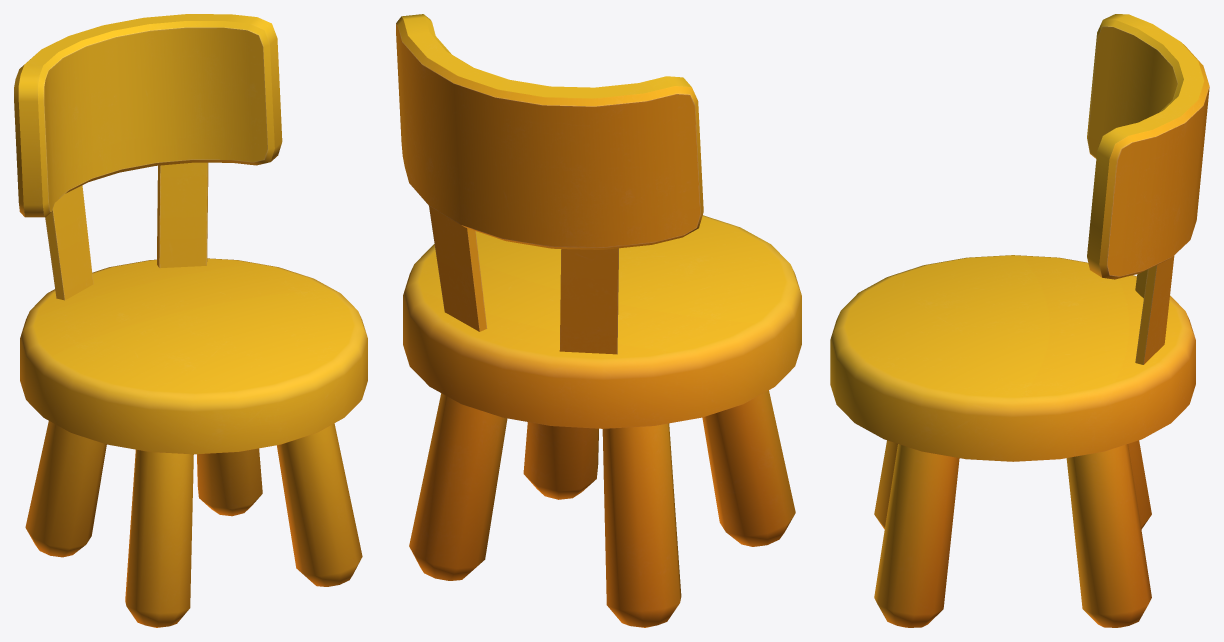
File: Chair.FBX
3 views of the same model, side by side, from view 1: azimuth 30°, elevation 25°; view 2: azimuth 150°, elevation 25°; view 3: azimuth 270°, elevation 25° (orthographic). The views are drawn at different scales.
Parts seen in each view (by area): view 1: Chair; view 2: Chair; view 3: Chair.
Part boxes in pixels (x1,y1,x2,y2): Chair: (14, 14, 367, 627); Chair: (396, 14, 801, 627); Chair: (830, 14, 1209, 627).
Bounding box in the file's own units: 57.05 × 87.51 × 59.2.
